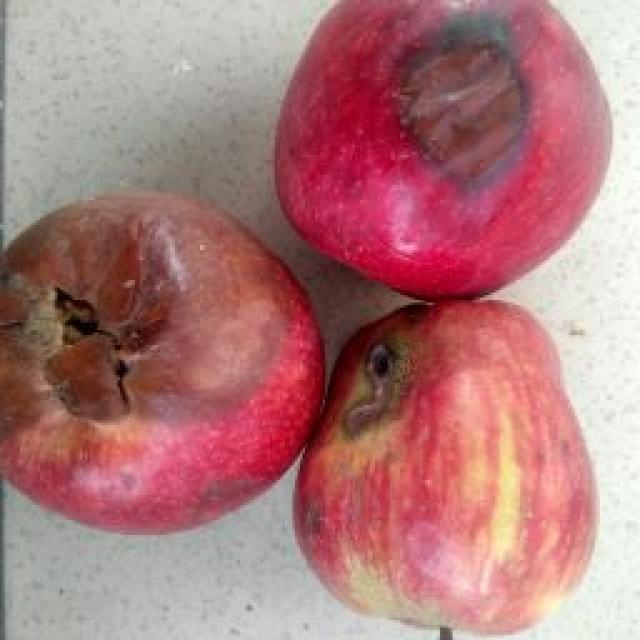Bad_Apple: (0, 194, 324, 532), (298, 301, 596, 633), (281, 0, 608, 298)
